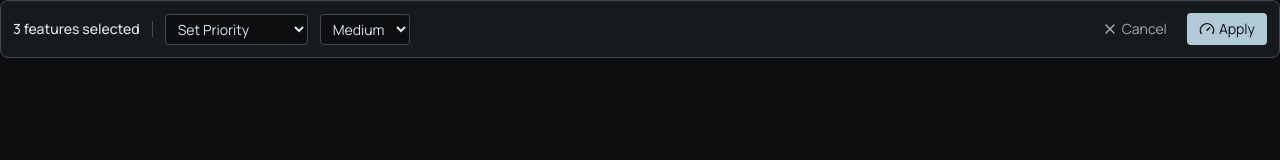
Test: BulkActionBar › Bulk Move › disables apply button when no target column is selected
Select "Move to Column" in the 1st dropdown at [236, 29], box left=165, top=14, right=308, bottom=44
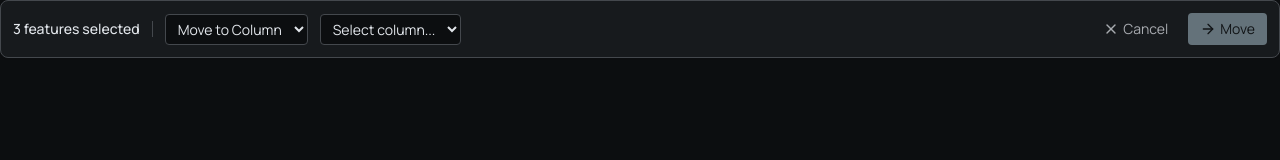
Result: the button "Move" is disabled at left=1188, top=13, right=1267, bottom=45
